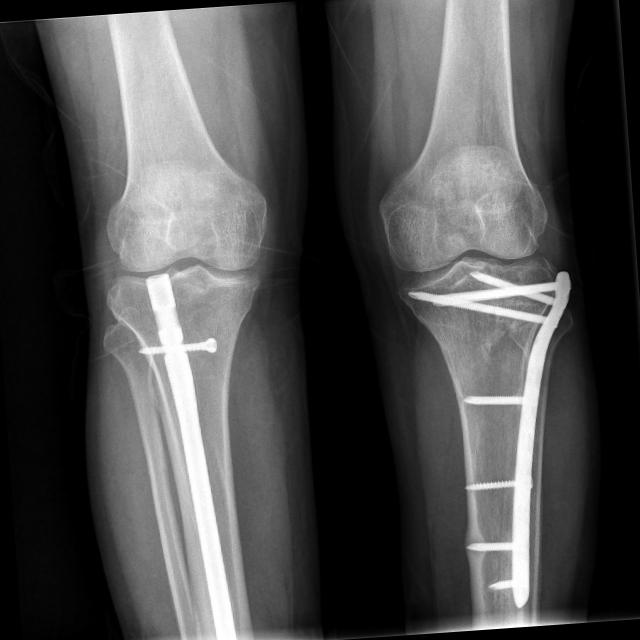Knee: (377, 173, 569, 340), (101, 192, 278, 338)
